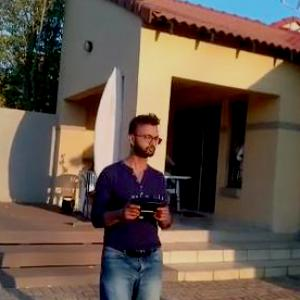follow: (89, 113, 173, 299)
